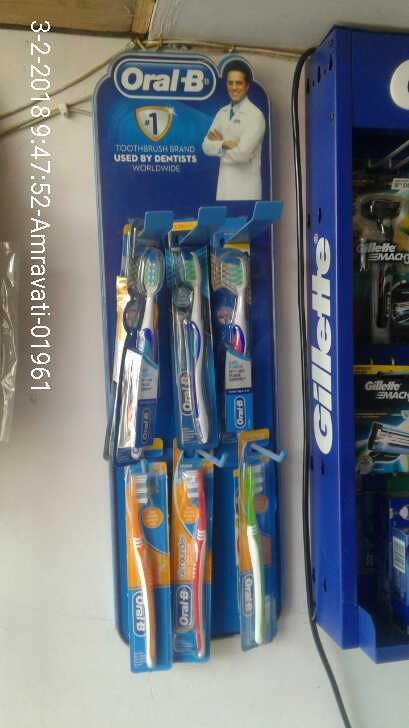oralb: (107, 243, 170, 449), (116, 468, 161, 659), (174, 250, 213, 442), (211, 244, 248, 428), (178, 462, 210, 666), (241, 462, 275, 643)
